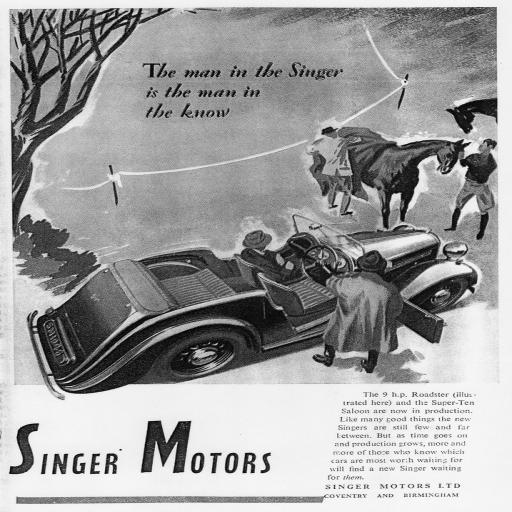horse: (338, 126, 472, 230)
